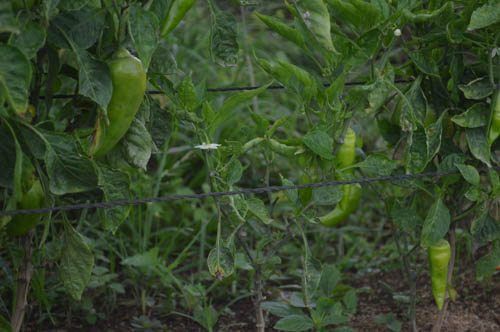ChiliPepper: (101, 56, 144, 156), (320, 188, 364, 229), (426, 243, 451, 303), (336, 135, 363, 168)
